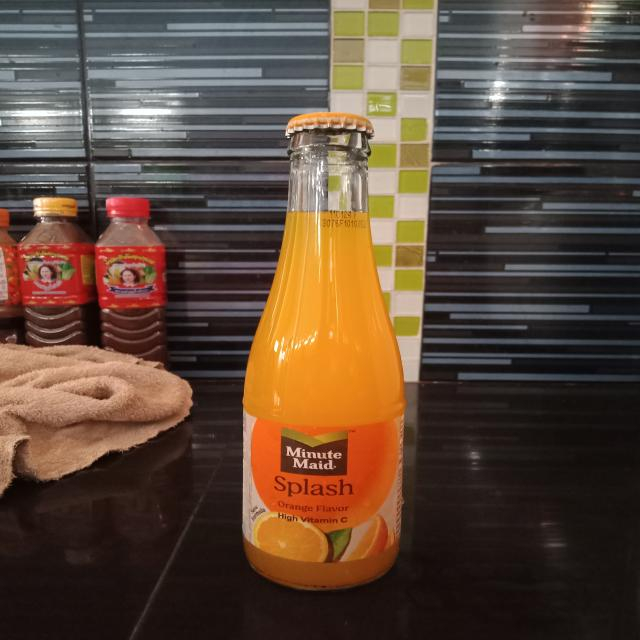glass-bottle: (212, 105, 441, 602)
